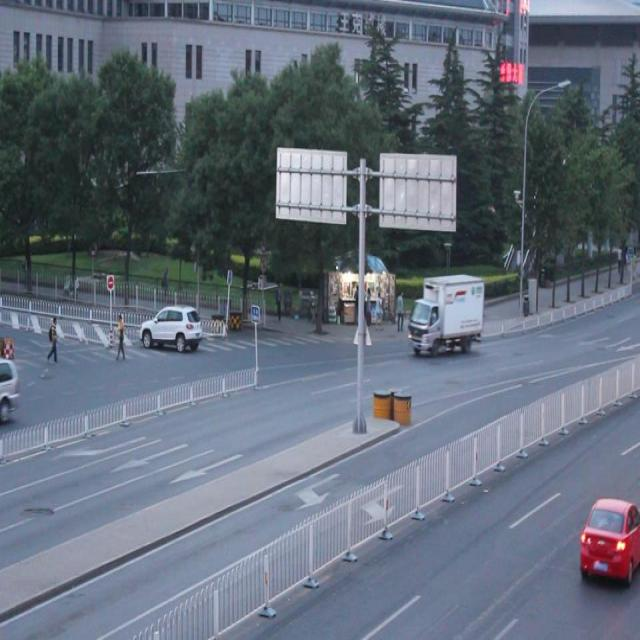bus: (409, 277, 483, 356)
car: (577, 496, 640, 584), (138, 302, 201, 350), (1, 354, 20, 427)
